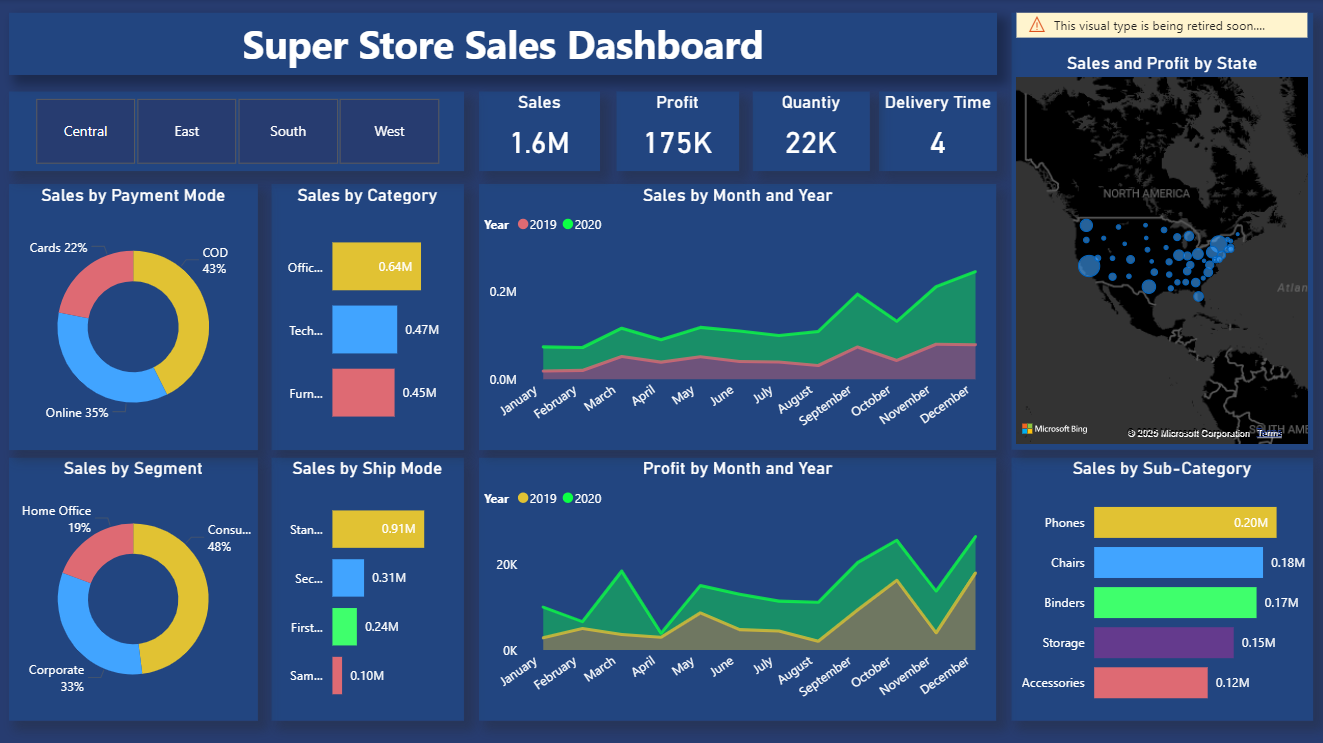

This screenshot's page, from the dashboard's own definition file:
{"tool":"powerbi","page":{"name":"Dashboard","canvas":[1280,720],"ordinal":0},"visuals":[{"type":"clusteredBarChart","title":" Sales by Category","fields":{"Category":["SuperStore_Sales_Dataset.Category"],"Y":["Sum(SuperStore_Sales_Dataset.Sales)"]},"box":[263.5,178.4,185.2,256.6],"z":0},{"type":"clusteredBarChart","title":"Sales by Sub-Category","fields":{"Category":["SuperStore_Sales_Dataset.Sub-Category"],"Y":["Sum(SuperStore_Sales_Dataset.Sales)"]},"box":[977,443.2,290.9,253.9],"z":1000},{"type":"clusteredBarChart","title":"Sales by Ship Mode","fields":{"Category":["SuperStore_Sales_Dataset.Ship Mode"],"Y":["Sum(SuperStore_Sales_Dataset.Sales)"]},"box":[263.5,443.2,185.2,253.9],"z":2000},{"type":"card","title":"Sales","fields":{"Values":["Sum(SuperStore_Sales_Dataset.Sales)"]},"box":[463.8,89.2,116.6,76.8],"z":3000},{"type":"card","title":"Delivery Time","fields":{"Values":["Avg(SuperStore_Sales_Dataset.AvgDelivery)"]},"box":[849.4,89.2,113.9,76.8],"z":4000},{"type":"card","title":"Profit","fields":{"Values":["Sum(SuperStore_Sales_Dataset.Profit)"]},"box":[595.5,89.2,118,76.8],"z":5000},{"type":"card","title":"Quantiy","fields":{"Values":["Sum(SuperStore_Sales_Dataset.Quantity)"]},"box":[727.3,89.2,112.5,76.8],"z":6000},{"type":"stackedAreaChart","title":" Sales by Month and Year","fields":{"Category":["SuperStore_Sales_Dataset.Order Date.Variation.Date Hierarchy.Month"],"Y":["Sum(SuperStore_Sales_Dataset.Sales)"],"Series":["SuperStore_Sales_Dataset.Order Date.Variation.Date Hierarchy.Year"]},"box":[463.8,178.4,499.5,256.6],"z":7000},{"type":"stackedAreaChart","title":"Profit by Month and Year","fields":{"Category":["SuperStore_Sales_Dataset.Order Date.Variation.Date Hierarchy.Month"],"Series":["SuperStore_Sales_Dataset.Order Date.Variation.Date Hierarchy.Year"],"Y":["Sum(SuperStore_Sales_Dataset.Profit)"]},"box":[463.8,443.2,499.5,253.9],"z":8000},{"type":"map","title":" Sales and Profit by State","fields":{"Category":["SuperStore_Sales_Dataset.State"],"Size":["Sum(SuperStore_Sales_Dataset.Sales)"]},"box":[977,13.7,290.9,421.3],"z":9000},{"type":"donutChart","title":" Sales by Segment","fields":{"Category":["SuperStore_Sales_Dataset.Segment"],"Y":["Sum(SuperStore_Sales_Dataset.Sales)"]},"box":[9.6,443.2,240.1,253.9],"z":10000},{"type":"donutChart","title":" Sales by Payment Mode","fields":{"Category":["SuperStore_Sales_Dataset.Payment Mode"],"Y":["Sum(SuperStore_Sales_Dataset.Sales)"]},"box":[9.6,178.4,240.1,256.6],"z":11000},{"type":"slicer","fields":{"Values":["SuperStore_Sales_Dataset.Region"]},"box":[9.6,89.2,439.1,76.8],"z":12000},{"type":"textbox","box":[9.6,13.7,953.7,60.4],"z":13000}]}

Visuals, with their boxes in screenshot pixels (x1, y1, x2, y2), scaled from the page's 1280x720 canvas onto the 1323x743 screenshot:
" Sales by Category" clusteredBarChart: l=272, t=184, r=464, b=449
"Sales by Sub-Category" clusteredBarChart: l=1010, t=457, r=1310, b=719
"Sales by Ship Mode" clusteredBarChart: l=272, t=457, r=464, b=719
"Sales" card: l=479, t=92, r=600, b=171
"Delivery Time" card: l=878, t=92, r=996, b=171
"Profit" card: l=616, t=92, r=737, b=171
"Quantiy" card: l=752, t=92, r=868, b=171
" Sales by Month and Year" stackedAreaChart: l=479, t=184, r=996, b=449
"Profit by Month and Year" stackedAreaChart: l=479, t=457, r=996, b=719
" Sales and Profit by State" map: l=1010, t=14, r=1310, b=449
" Sales by Segment" donutChart: l=10, t=457, r=258, b=719
" Sales by Payment Mode" donutChart: l=10, t=184, r=258, b=449
slicer - SuperStore_Sales_Dataset.Region: l=10, t=92, r=464, b=171
textbox: l=10, t=14, r=996, b=76
